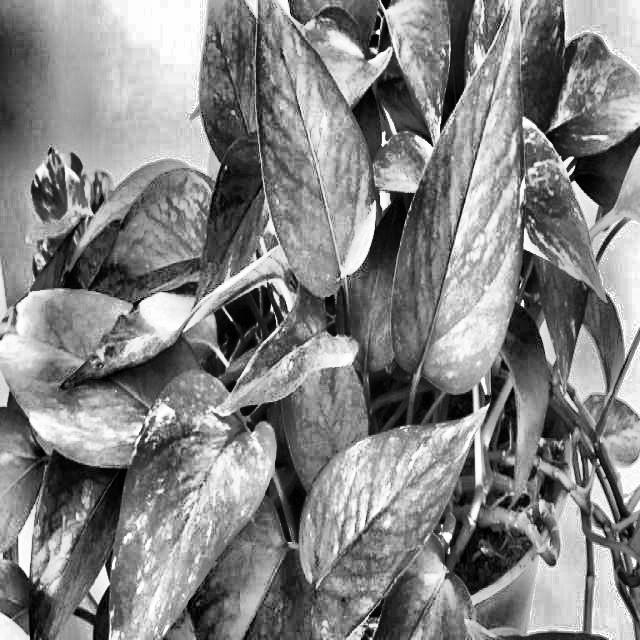plants: (0, 0, 639, 639), (57, 281, 286, 396)
